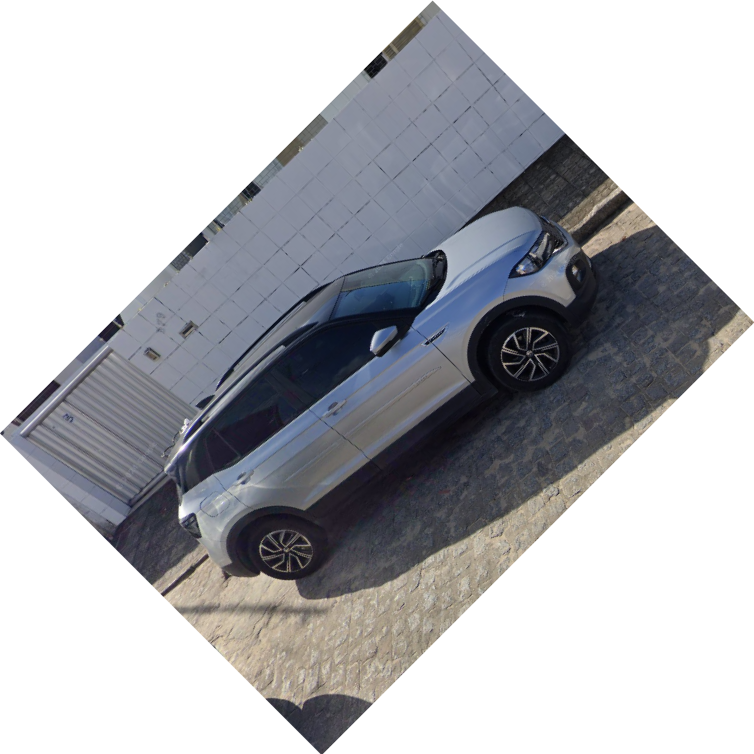car: (159, 202, 600, 588)
